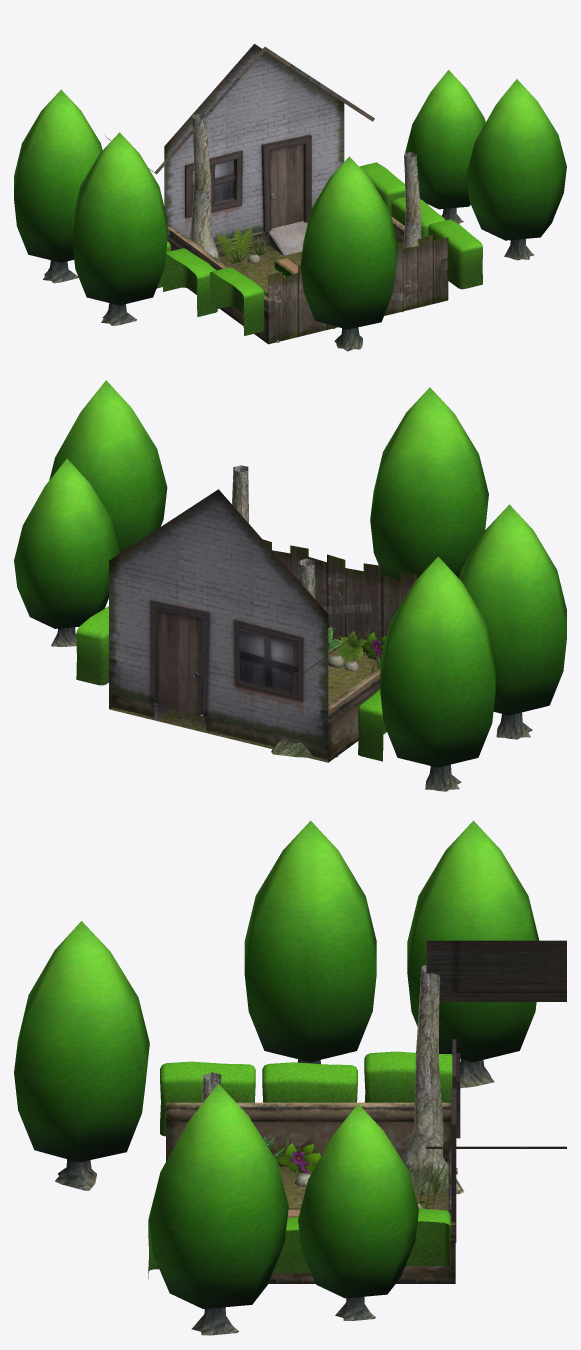
The model's file is garage.fbx.
3 views of the same model, one above another, from view 1: azimuth 30°, elevation 25°; view 2: azimuth 150°, elevation 25°; view 3: azimuth 270°, elevation 25° (orthographic). The views are drawn at different scales.
Visible parts, largest first — view 1: garage_1, pine_1, pine, pine_2, pine_4, pine_3, tree, bush_2, bush_3, bush, tree_1, bush_1 (+2 smaller); view 2: garage_1, pine_4, pine, pine_1, pine_3, pine_2, bush_1, bush_4, tree, tree_1, foliage_basil; view 3: pine, pine_1, pine_2, garage_1, pine_3, pine_4, tree, bush, bush_2, bush_4, bush_1, bush_5 (+1 smaller).
Part boxes in pixels (x1,y1,x2,y2): garage_1: (104,44,448,344); pine_1: (72,132,167,325); pine: (300,156,397,351); pine_2: (466,79,566,260); pine_4: (14,89,102,283); pine_3: (405,69,485,224); tree: (189,113,223,263); bush_2: (209,267,264,335); bush_3: (428,219,482,289); bush: (163,248,217,316); tree_1: (403,152,425,306); bush_1: (359,162,405,215); garage_1: (109,489,418,762); pine_4: (380,556,495,791); pine: (370,387,488,579); pine_1: (459,504,566,739); pine_3: (14,459,119,646); pine_2: (49,380,167,553); bush_1: (76,606,108,685); bush_4: (358,688,386,761); tree: (271,558,338,757); tree_1: (232,465,248,523); foliage_basil: (335,631,367,663); pine: (14,921,149,1190); pine_1: (244,820,376,1063); pine_2: (148,1084,288,1335); garage_1: (166,940,566,1283); pine_3: (298,1104,418,1320); pine_4: (407,820,539,1088); tree: (401,965,464,1194); bush: (262,1062,357,1102); bush_2: (160,1061,255,1136); bush_4: (364,1051,452,1102); bush_1: (405,1208,450,1273); bush_5: (272,1217,310,1273).
Size of the model in its own units: 10982 by 4956 by 8324.
